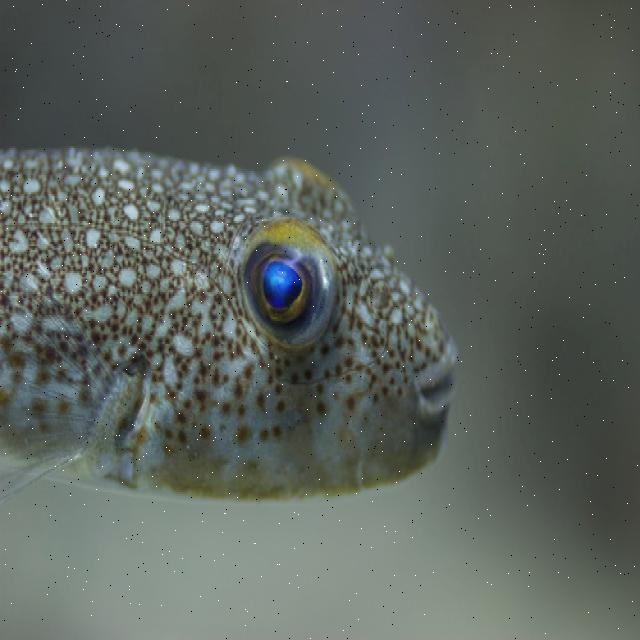Balik: (0, 150, 455, 501)
